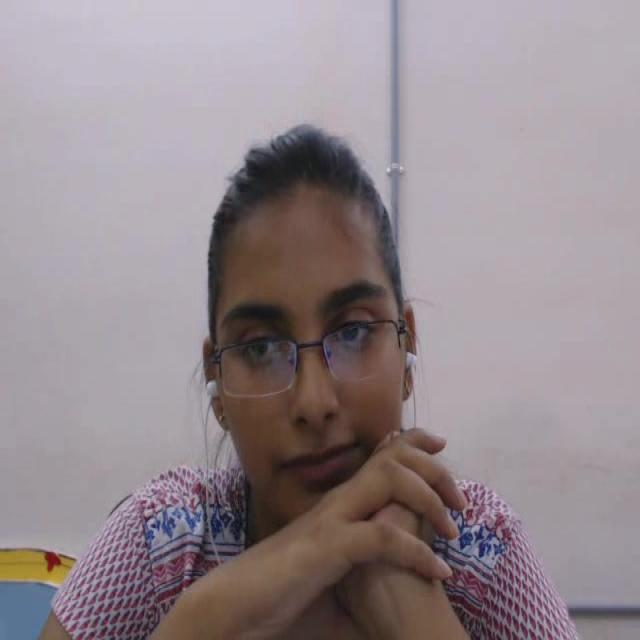Bored: (177, 91, 456, 532)
